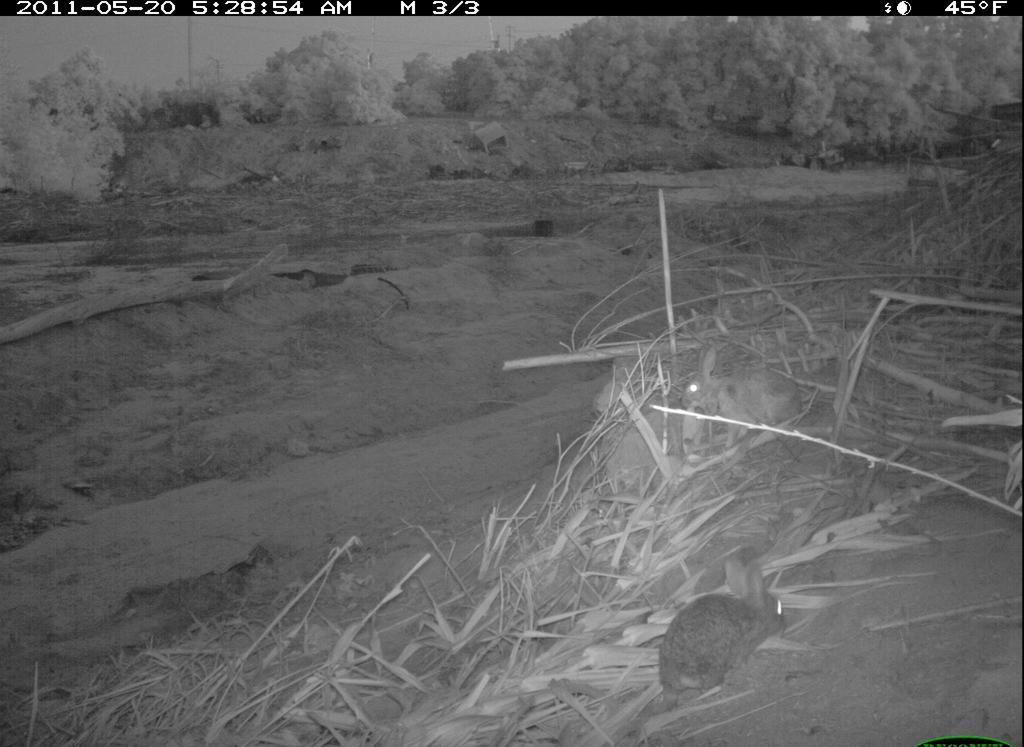rabbit: (655, 546, 793, 702), (675, 338, 807, 450)
